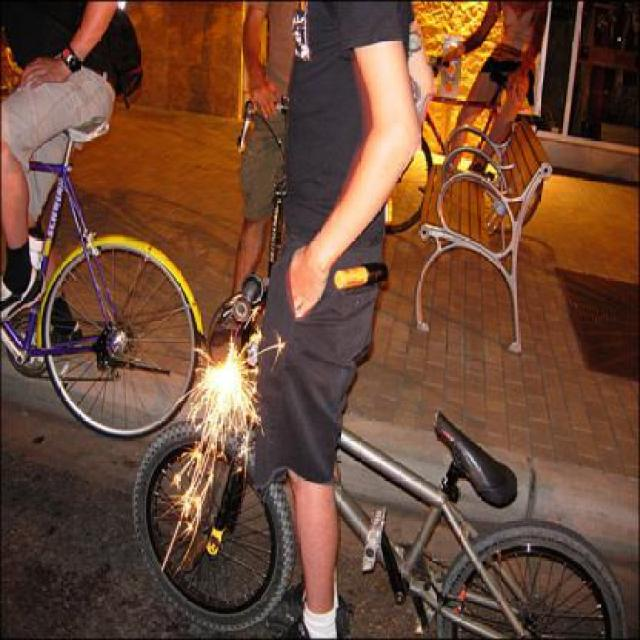Person: (247, 0, 407, 620), (0, 0, 145, 362), (210, 0, 312, 351), (431, 0, 543, 186)
